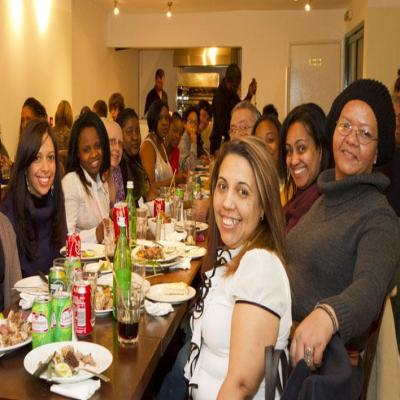happy: (214, 161, 260, 247), (332, 100, 377, 179), (284, 117, 320, 186), (31, 132, 56, 199), (78, 124, 107, 177), (255, 123, 279, 168), (108, 125, 123, 166)
netural: (121, 114, 143, 156), (230, 113, 254, 141), (156, 104, 170, 139), (184, 106, 198, 135), (172, 117, 182, 148), (200, 109, 209, 131)
